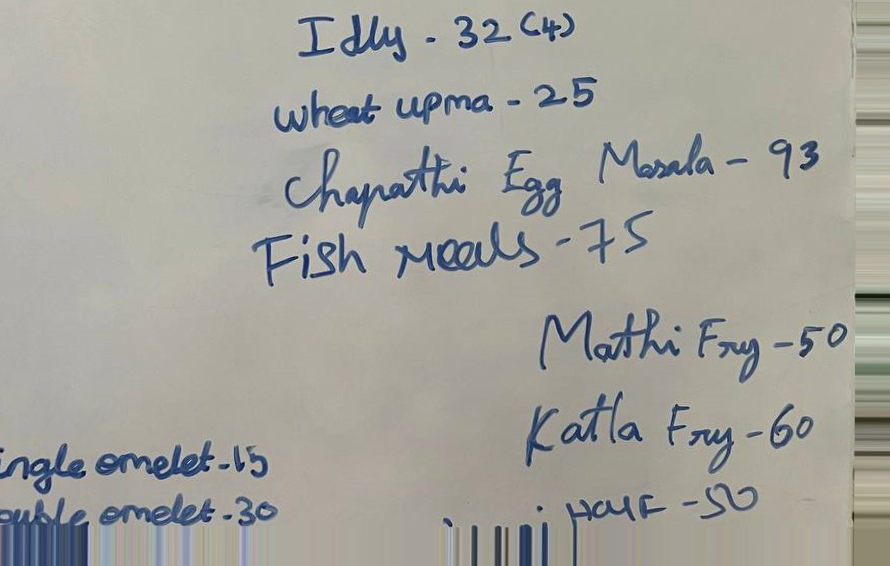chapathi egg masala - 93: (283, 132, 824, 208)
fish Meals - 75: (248, 212, 664, 289)
idly(4) - 32: (288, 1, 585, 69)
katla fry - 60: (526, 394, 823, 474)
mathi fry - 50: (532, 303, 852, 384)
wheat upma - 25: (264, 63, 604, 138)
